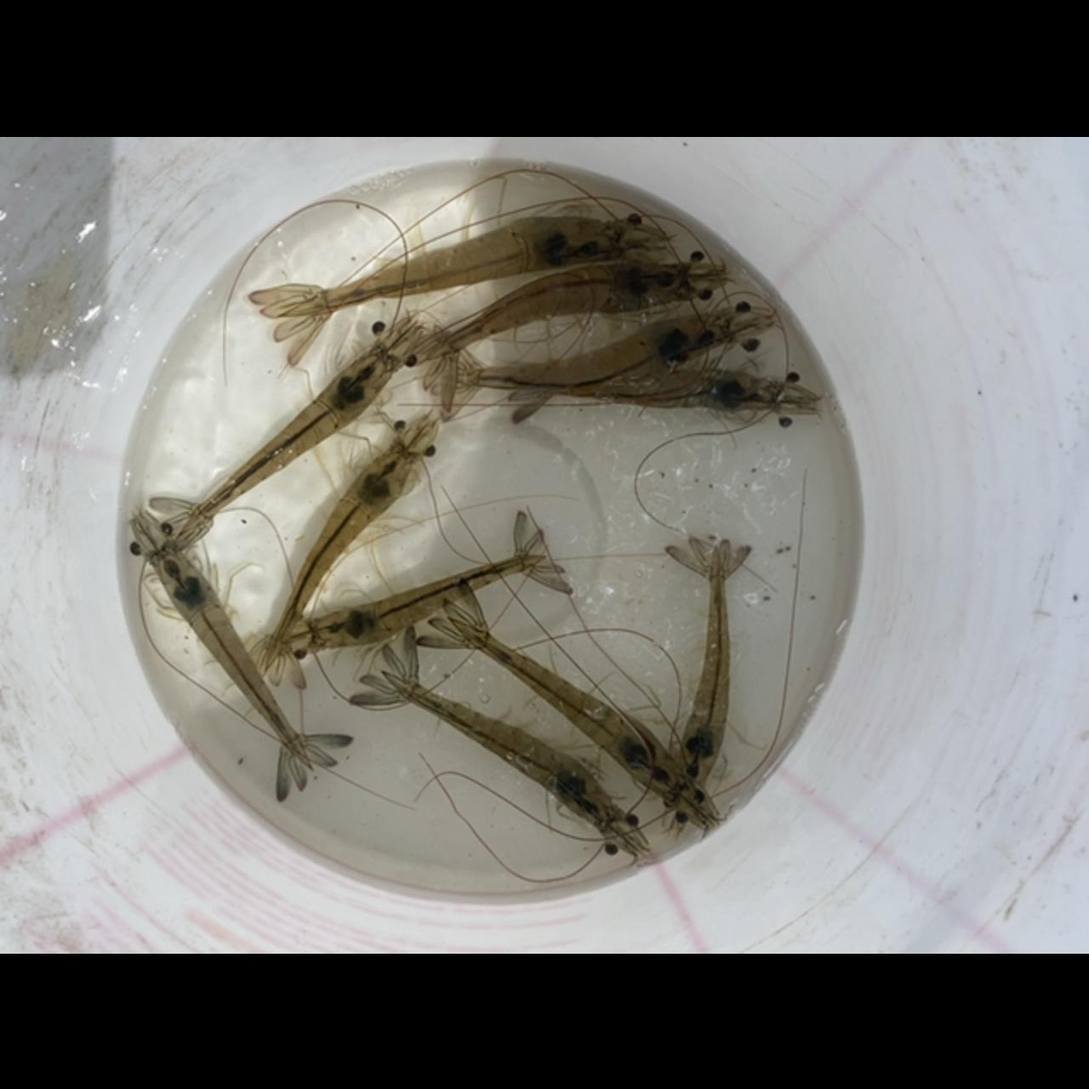round_base: (130, 176, 856, 873)
top_shrimp: (447, 614, 694, 803), (180, 346, 394, 533), (152, 545, 311, 762), (283, 214, 621, 316), (394, 679, 620, 830), (269, 442, 413, 664), (426, 259, 691, 359), (430, 317, 734, 391), (312, 552, 546, 648), (674, 546, 730, 801), (540, 367, 778, 411)
